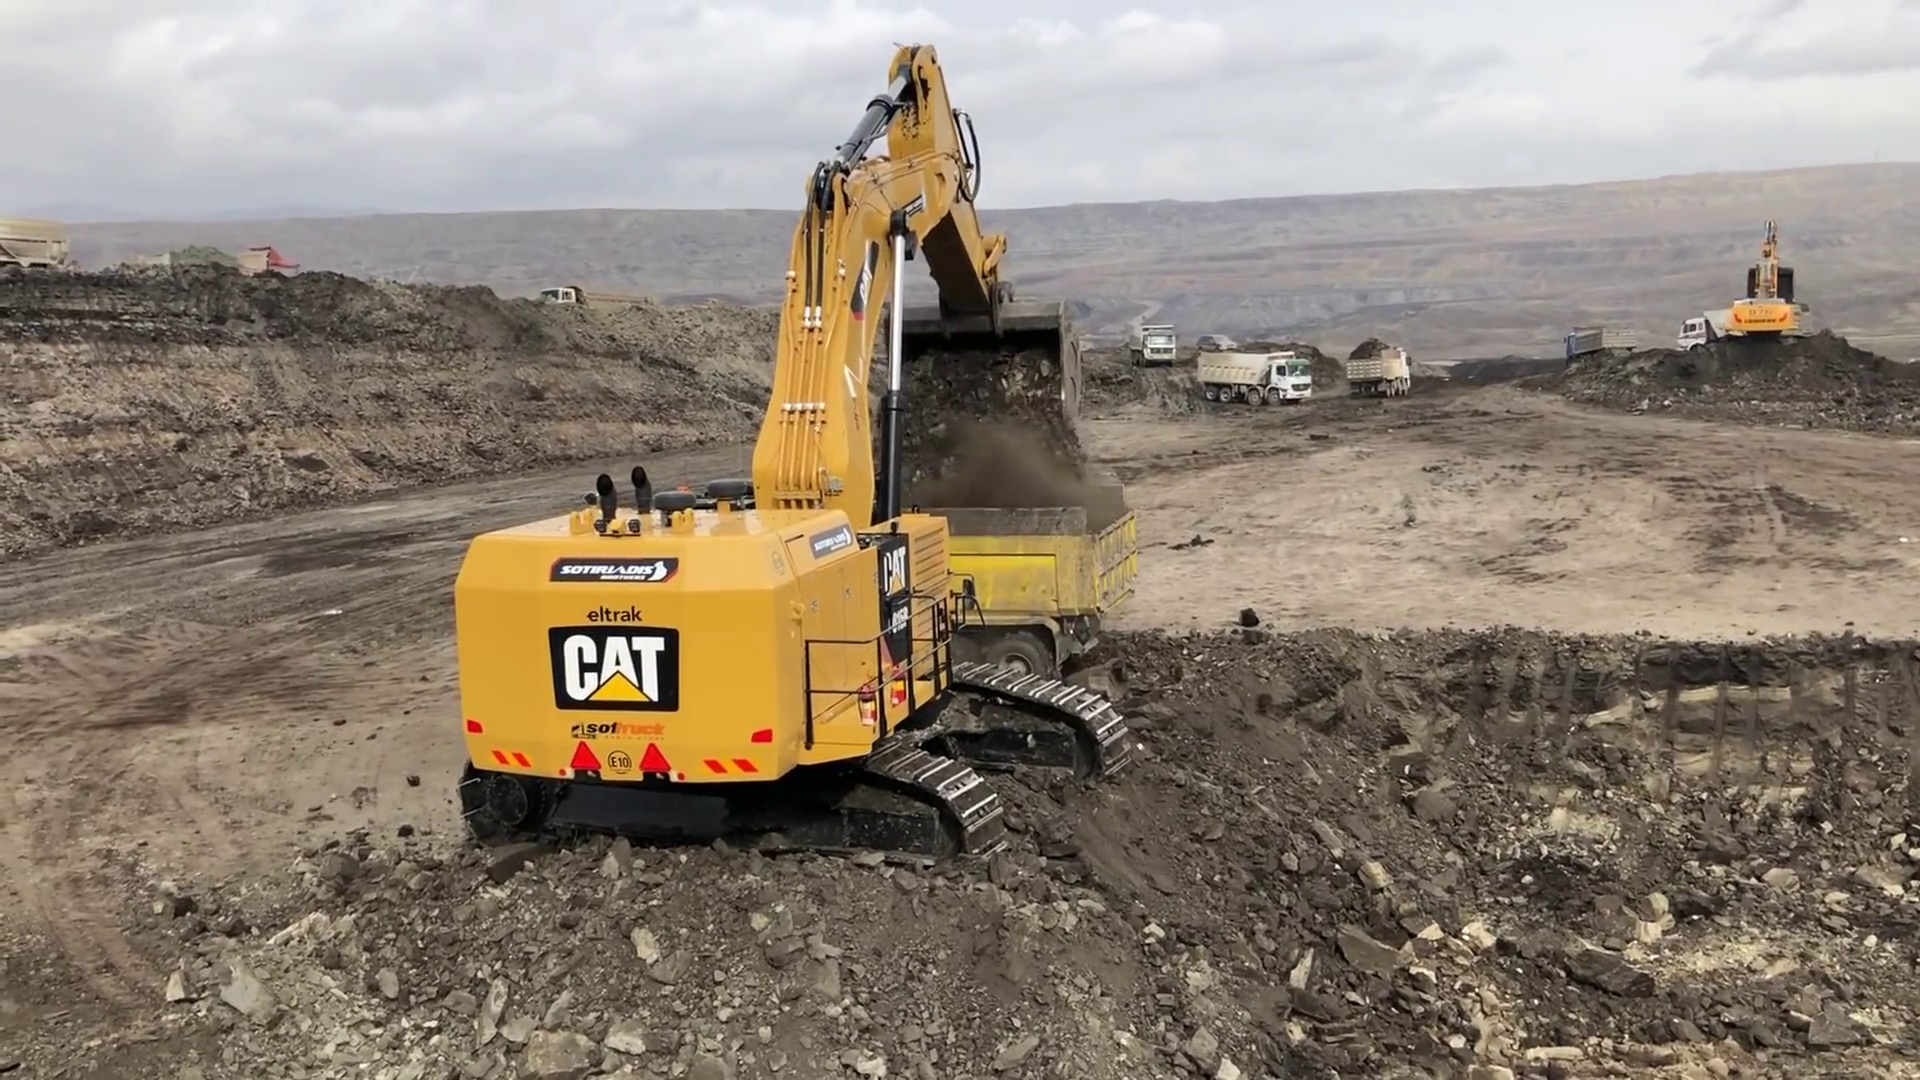excavator: (455, 38, 1147, 899), (1733, 219, 1801, 352)
truck: (1196, 347, 1315, 409), (1679, 307, 1760, 369), (1346, 345, 1423, 404), (1, 232, 73, 284), (1561, 319, 1633, 369), (235, 241, 301, 281), (1134, 320, 1174, 371)
